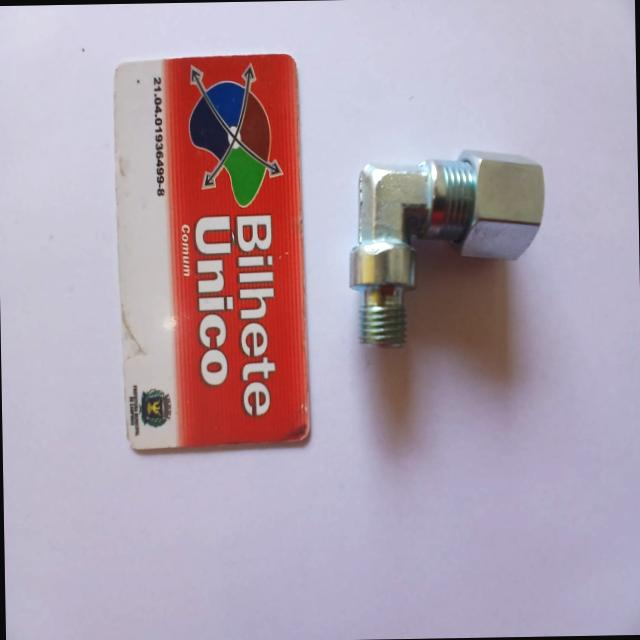cartao: (113, 52, 310, 452)
rosca_externa: (344, 142, 548, 348)
